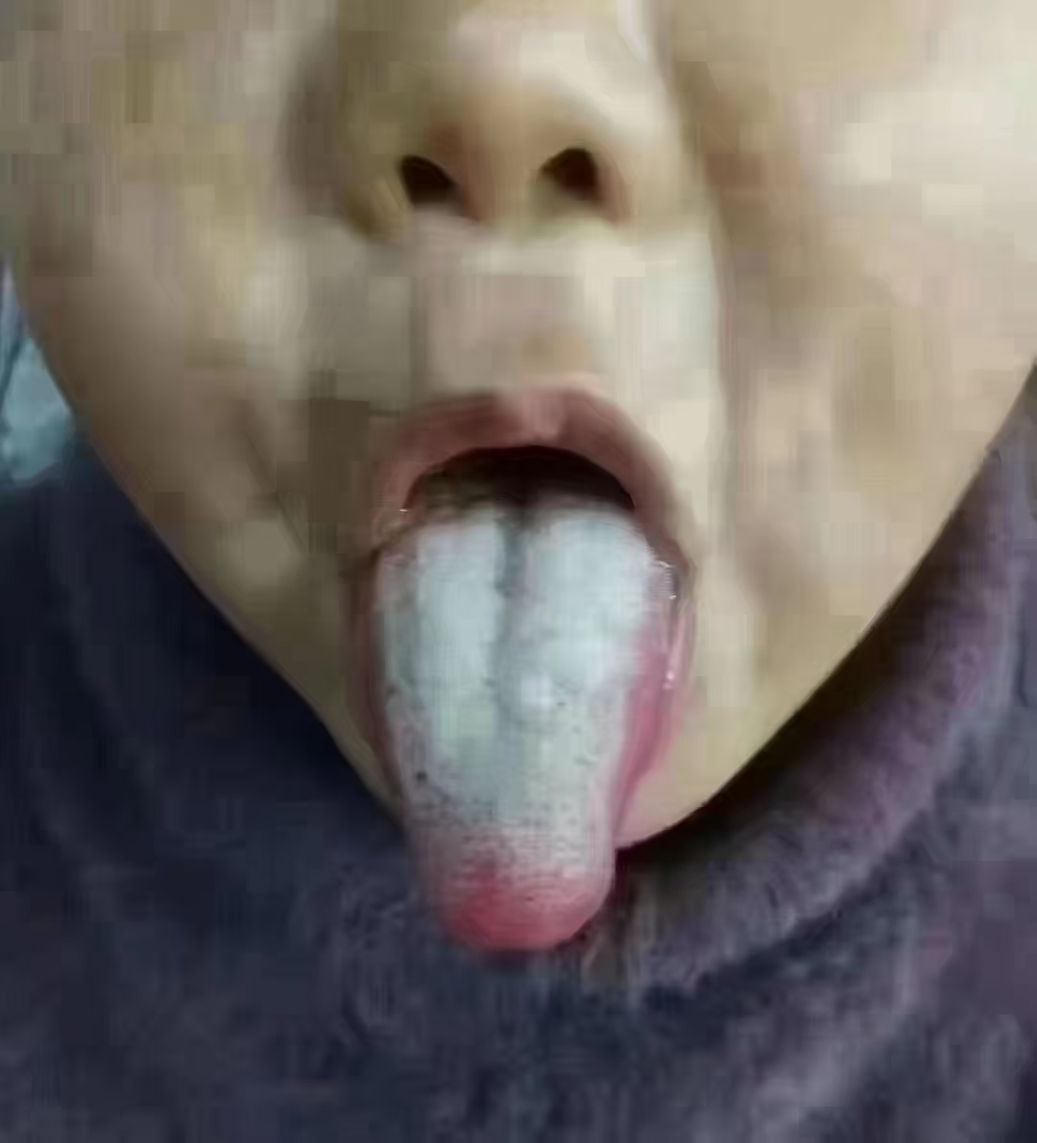baitaishe: (368, 496, 676, 950)
hongshe: (367, 495, 675, 949)
